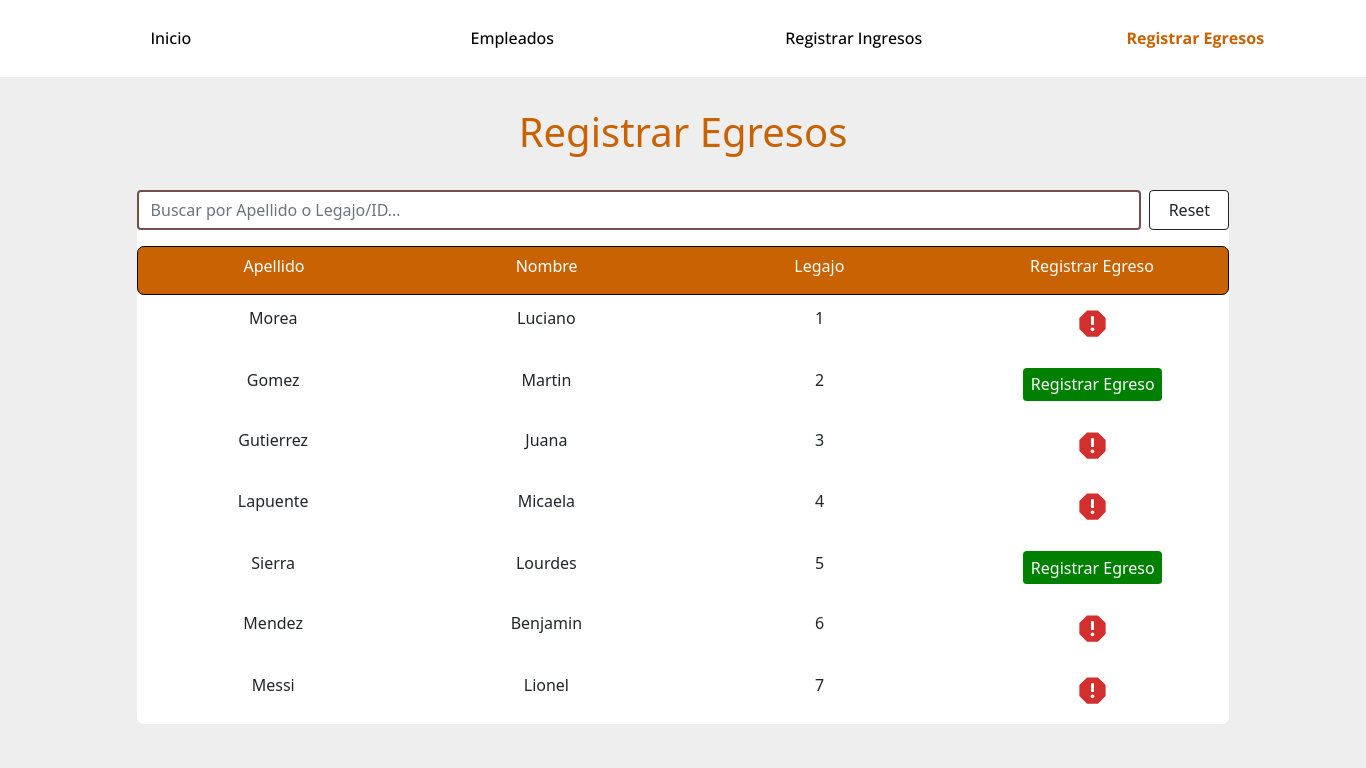
Test: Egresos › search by name and click button Registrar
Step 1. Click the link "Registrar Egresos" → {"x": 1195, "y": 38}, box x1=1126 y1=26 x2=1264 y2=50
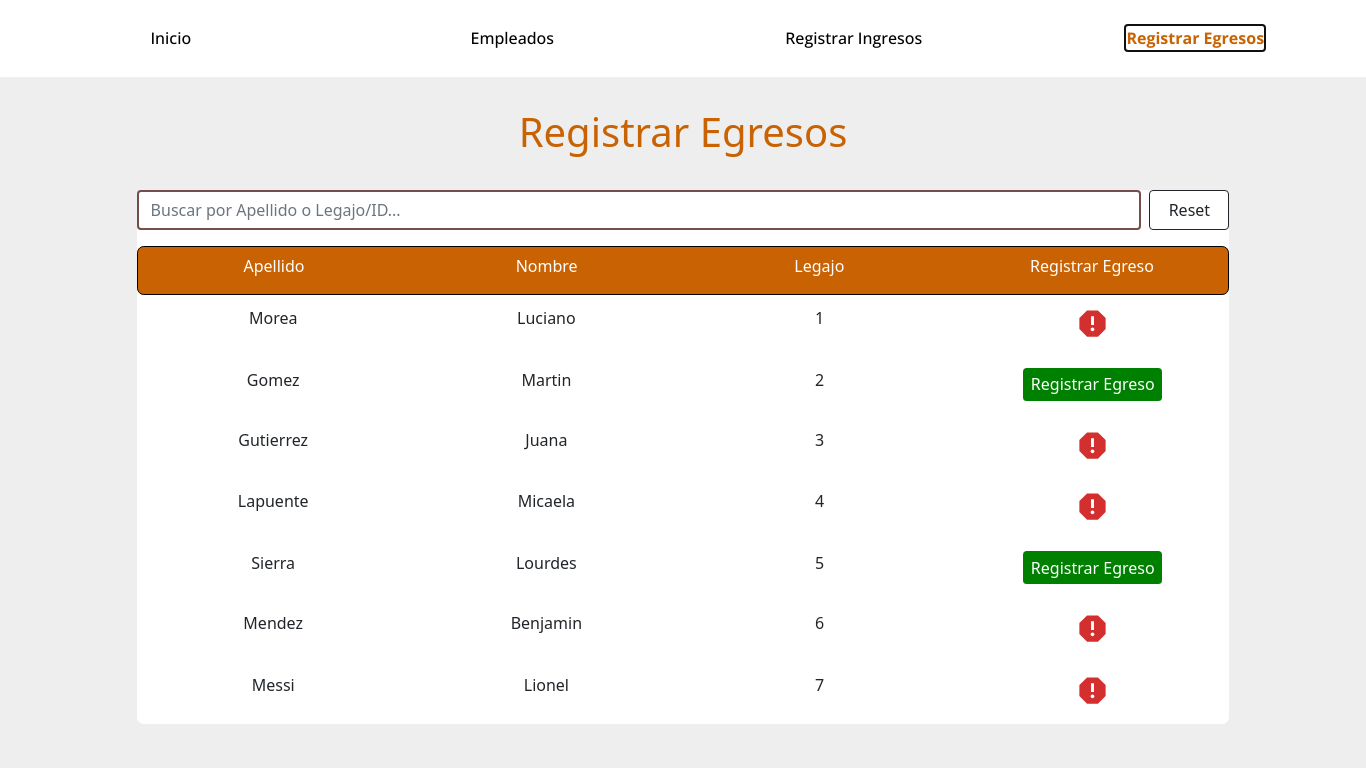
Step 2. Type "Sie" into the search field named "search" → {"x": 639, "y": 210}, box x1=137 y1=190 x2=1141 y2=230
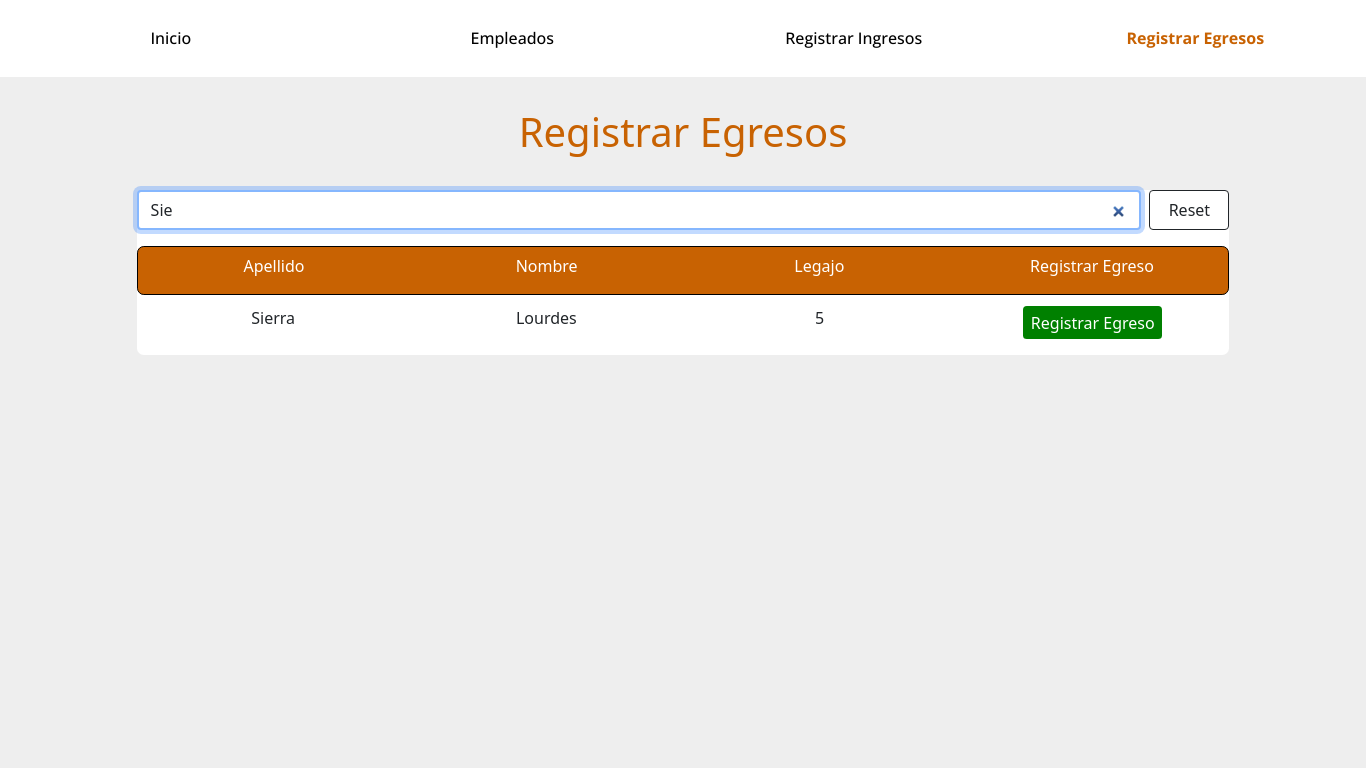
Step 3. Click the button "Registrar Egreso" → {"x": 1093, "y": 323}, box x1=1023 y1=306 x2=1162 y2=339
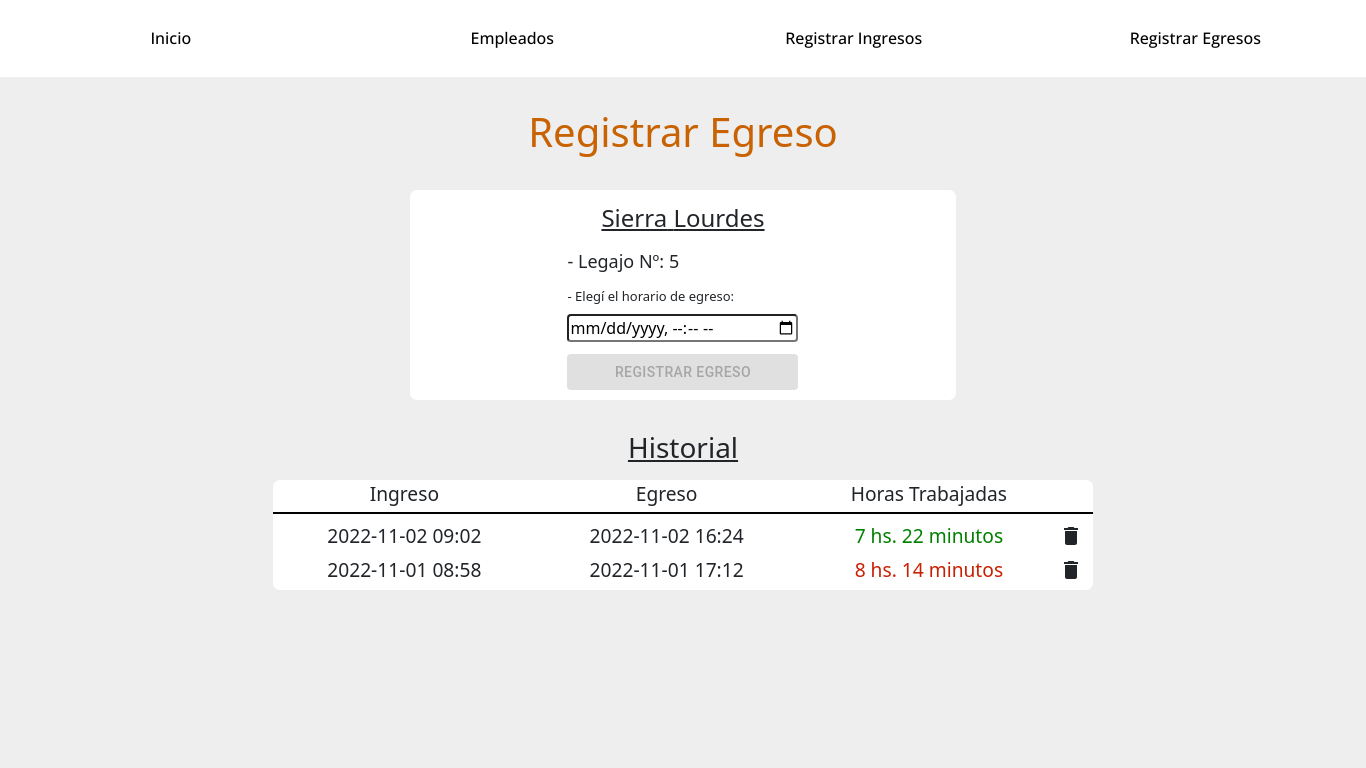
Check: the text "- Legajo Nº: 5" is shown, box x1=568 y1=249 x2=679 y2=273
Check: the text "- Elegí el horario de egreso:" is shown, box x1=568 y1=287 x2=734 y2=305
Check: the heading "Historial" is shown, box x1=628 y1=428 x2=738 y2=466
